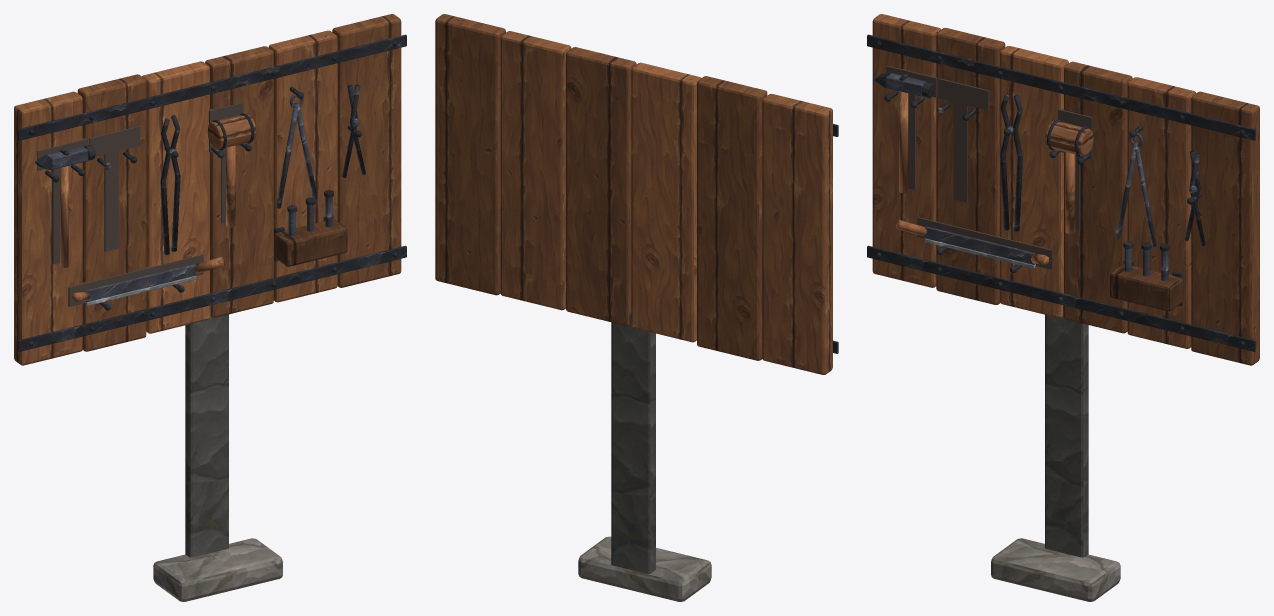
File: hs_tool_wall.glb
3 views of the same model, side by side, from view 1: azimuth 30°, elevation 25°; view 2: azimuth 150°, elevation 25°; view 3: azimuth 330°, elevation 25° (orthographic). The views are drawn at different scales.
Visible parts, largest first — view 1: model; view 2: model; view 3: model.
Part boxes in pixels (x1=…): model: x1=14, y1=14, x2=406, y2=601; model: x1=435, y1=14, x2=838, y2=601; model: x1=867, y1=14, x2=1259, y2=601.
Bounding box in the file's own units: 1.27 × 1.6 × 0.17.
Materials: 10 (9 with a texture image).
